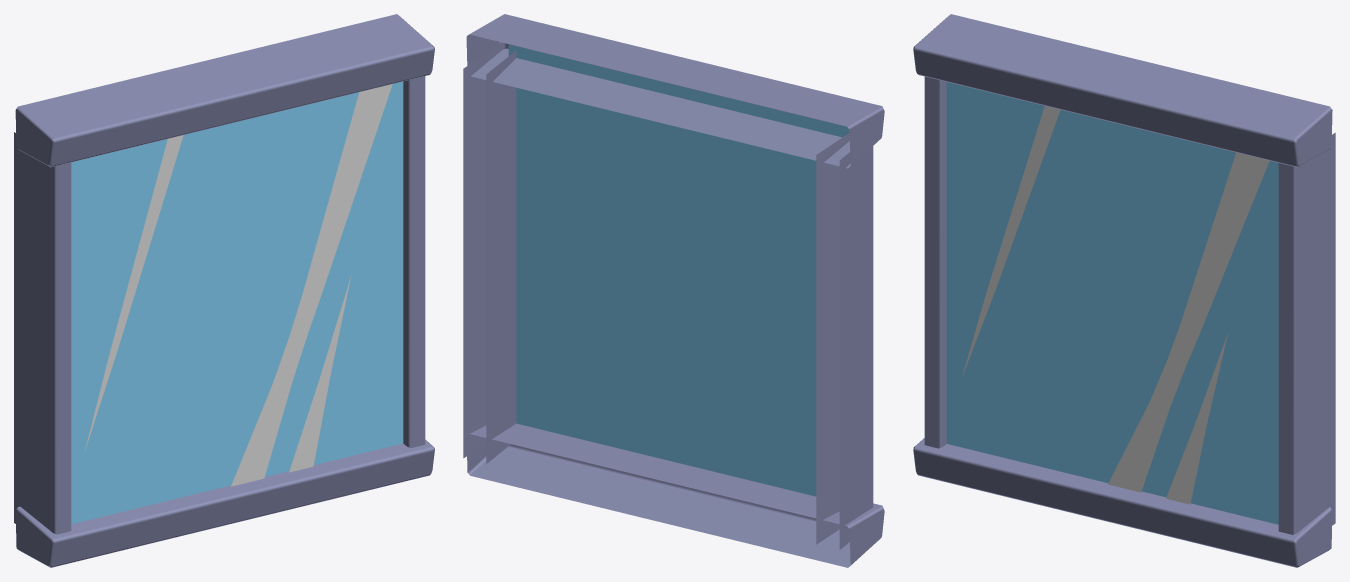
File: Window.fbx
The picture shows the model from 3 angles, left to right: view 1: azimuth 30°, elevation 25°; view 2: azimuth 150°, elevation 25°; view 3: azimuth 330°, elevation 25°; orthographic projection.
Parts seen in each view (by area): view 1: WindowMesh.001; view 2: WindowMesh.001; view 3: WindowMesh.001.
Part boxes in pixels (bbox=[...]): WindowMesh.001: bbox=[14, 14, 434, 567]; WindowMesh.001: bbox=[463, 14, 884, 567]; WindowMesh.001: bbox=[913, 14, 1335, 567].
Size of the model in its own units: 5.82 by 6.41 by 1.12.
